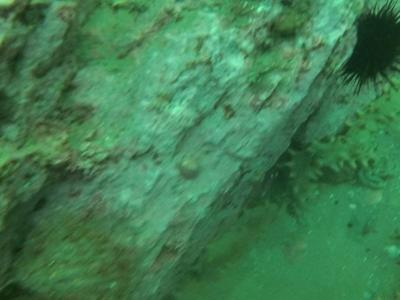holothurian: (283, 97, 388, 195)
urchin: (334, 2, 396, 94)
